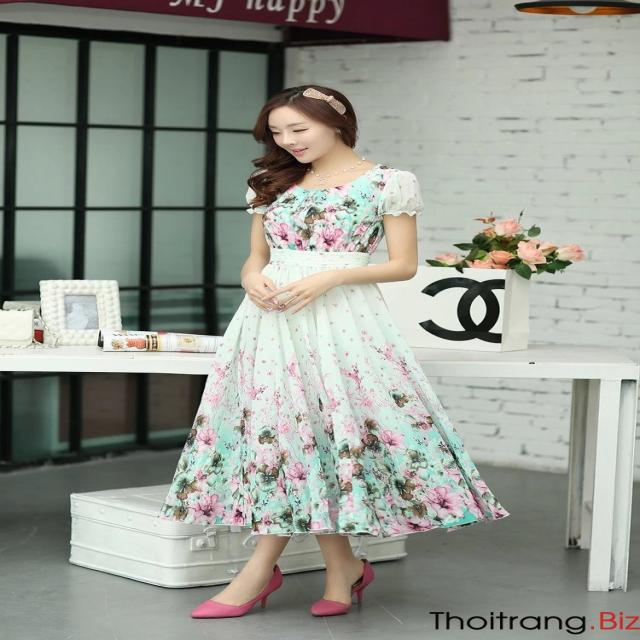clothes: (160, 156, 509, 544)
